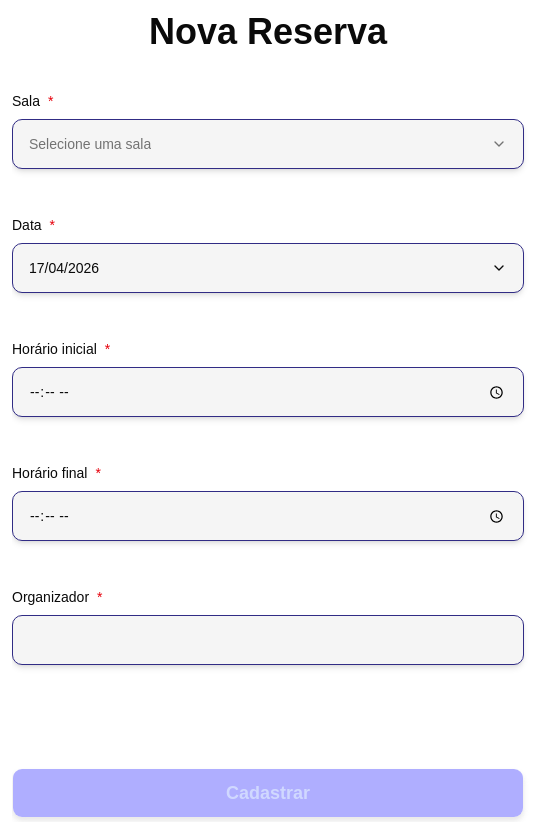
it: CreateReservation › Validações › deve mostrar erro quando campo estiver vazio: 'input-organizador'
This screenshot has width=544, height=822.
Click the field with test id "input-organizador" at (268, 640), box [12, 615, 524, 665]
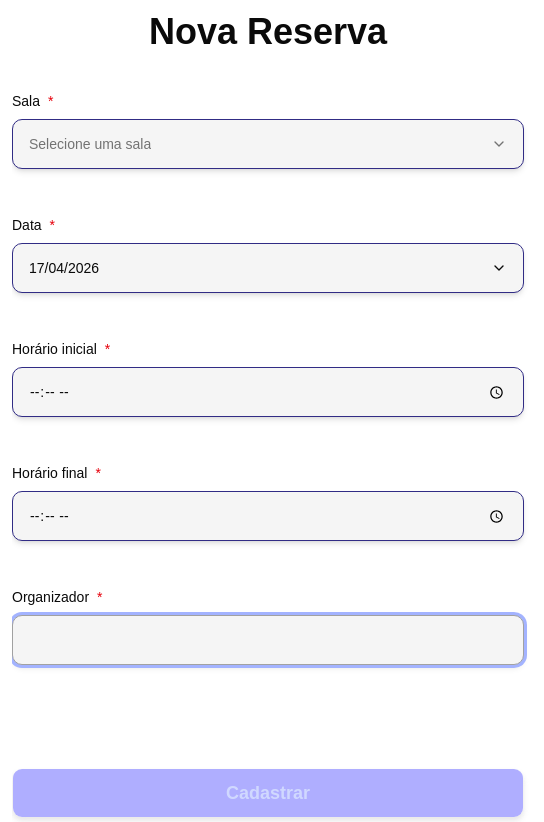
Press Tab
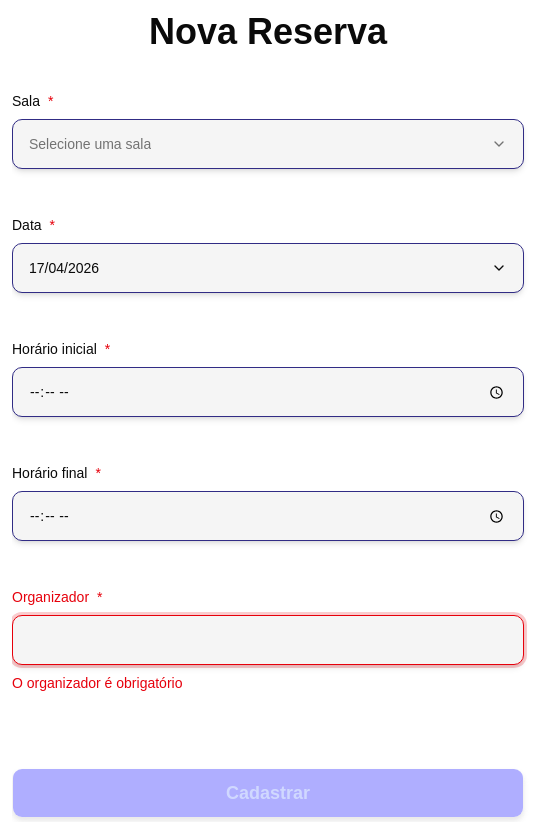
Check: the text "O organizador é obrigatório" is shown, box [12, 675, 182, 691]
